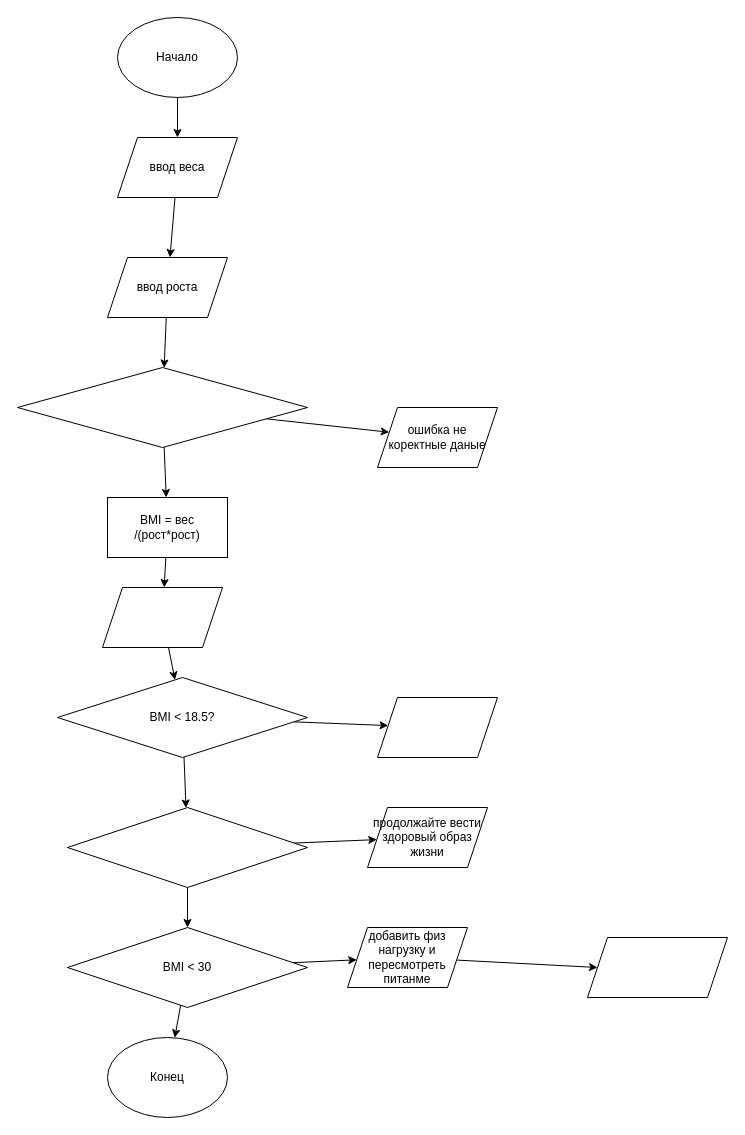
Image size: 745x1135. Some labels were removed from this diagram. The shapes that lost their labels are listed below. From the top down, each one's centre as x and y in pixels, then its label:
At point (162, 407): "вес>0 и рост >0?".
At point (162, 617): "вывод ваш ИМТ".
At point (437, 727): "рекамендуется набрать массу".
At point (187, 847): "BMI < 25".
At point (657, 967): "рекомендуется обратиться к врачу для консультации".
